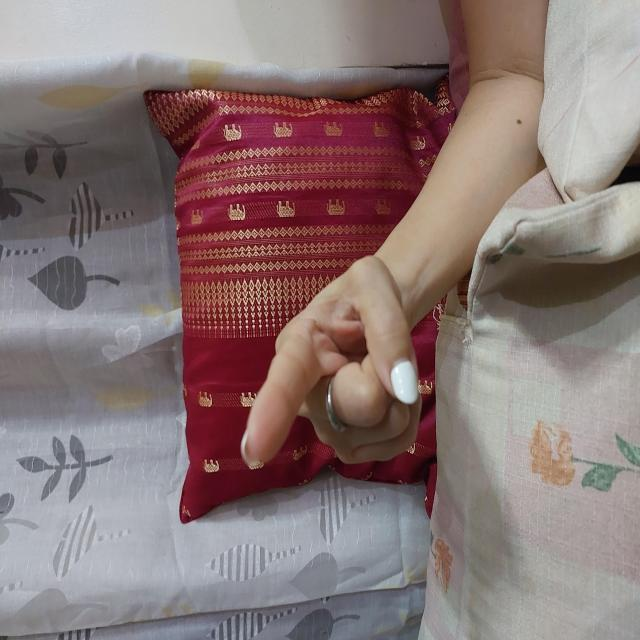Z: (168, 240, 387, 425)
